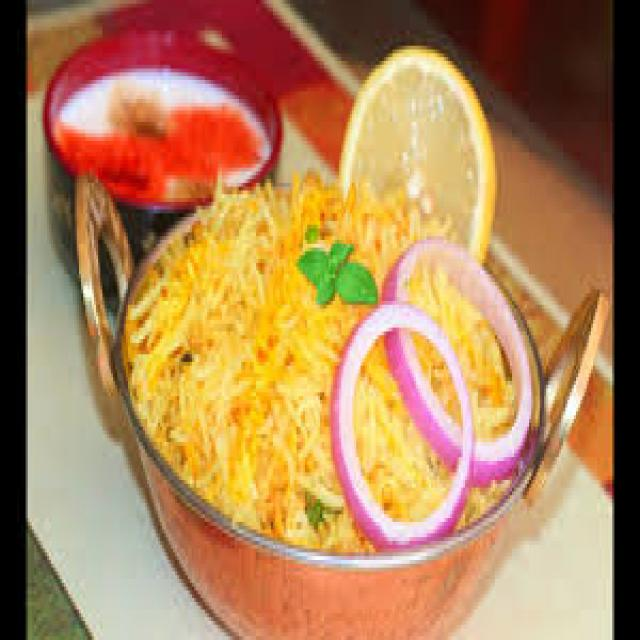Wet Waste: (124, 166, 527, 554)
